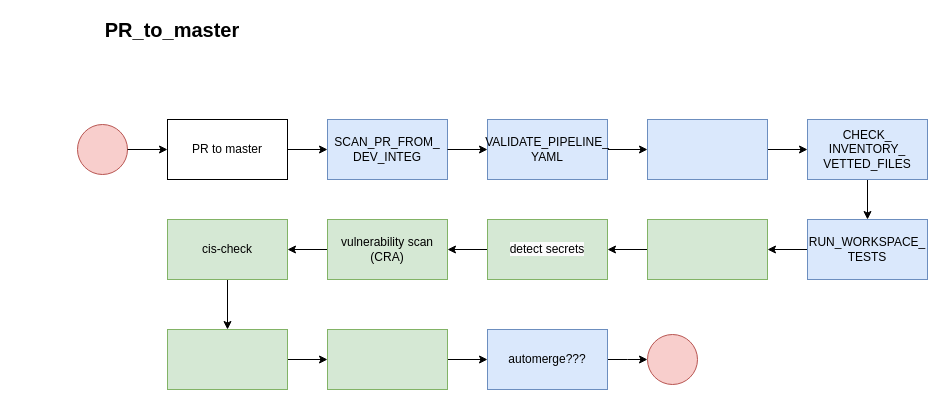
Some shapes in this 945 by 407 pixel diagram are drawn without their labels. Each missing label, with the box of its shape:
bom check: (166, 328, 288, 390)
branch protection check: (326, 328, 448, 390)
BUILD (to be able to run CRA): (646, 118, 768, 180)
DYNAMIC SCAN: (646, 218, 768, 280)
